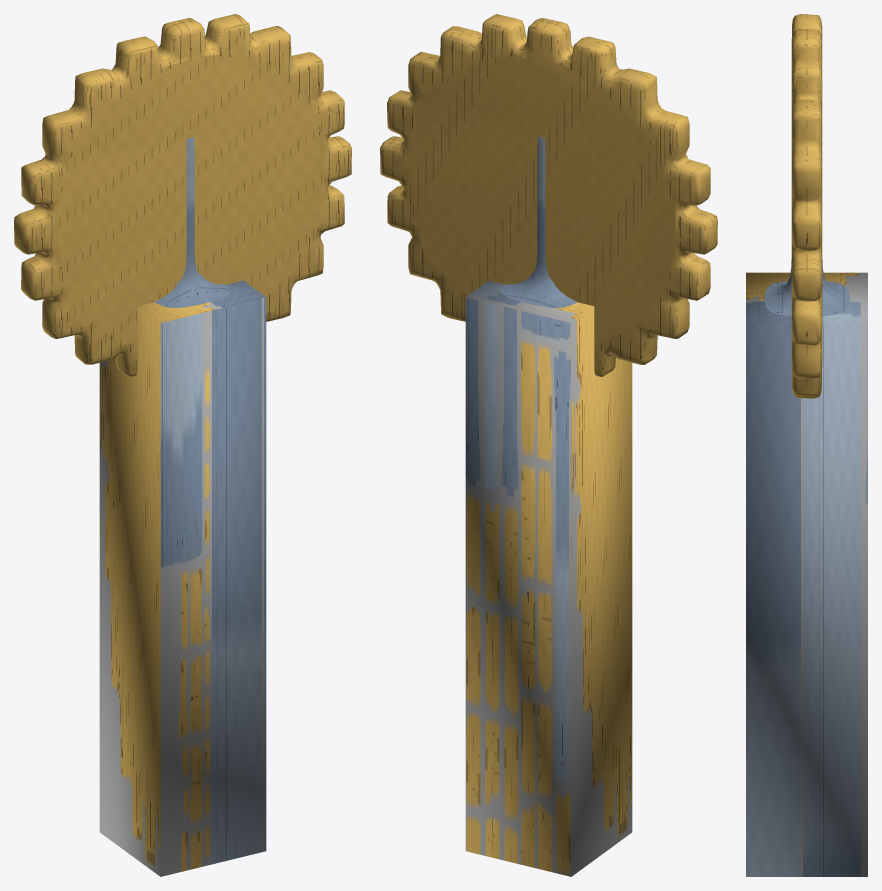
Rendered from landmark_gear.glb.
The picture shows the model from 3 angles, left to right: view 1: azimuth 30°, elevation 25°; view 2: azimuth 150°, elevation 25°; view 3: azimuth 270°, elevation 25°; orthographic projection.
Visible parts, largest first — view 1: col, gear, lod0; view 2: col, gear, lod0; view 3: col, gear, lod0.
Boxes of the visible parts, left/top/right/bottom form: col: left=99, top=280, right=266, bottom=876; gear: left=14, top=14, right=351, bottom=376; lod0: left=155, top=137, right=230, bottom=307; col: left=465, top=280, right=632, bottom=876; gear: left=380, top=14, right=717, bottom=376; lod0: left=501, top=137, right=576, bottom=307; col: left=746, top=272, right=867, bottom=876; gear: left=791, top=14, right=822, bottom=398; lod0: left=764, top=260, right=849, bottom=315.
Size of what is drawn, in the model's own units: 7.49 by 17.75 by 2.4.
Materials: 1 (1 with a texture image).
